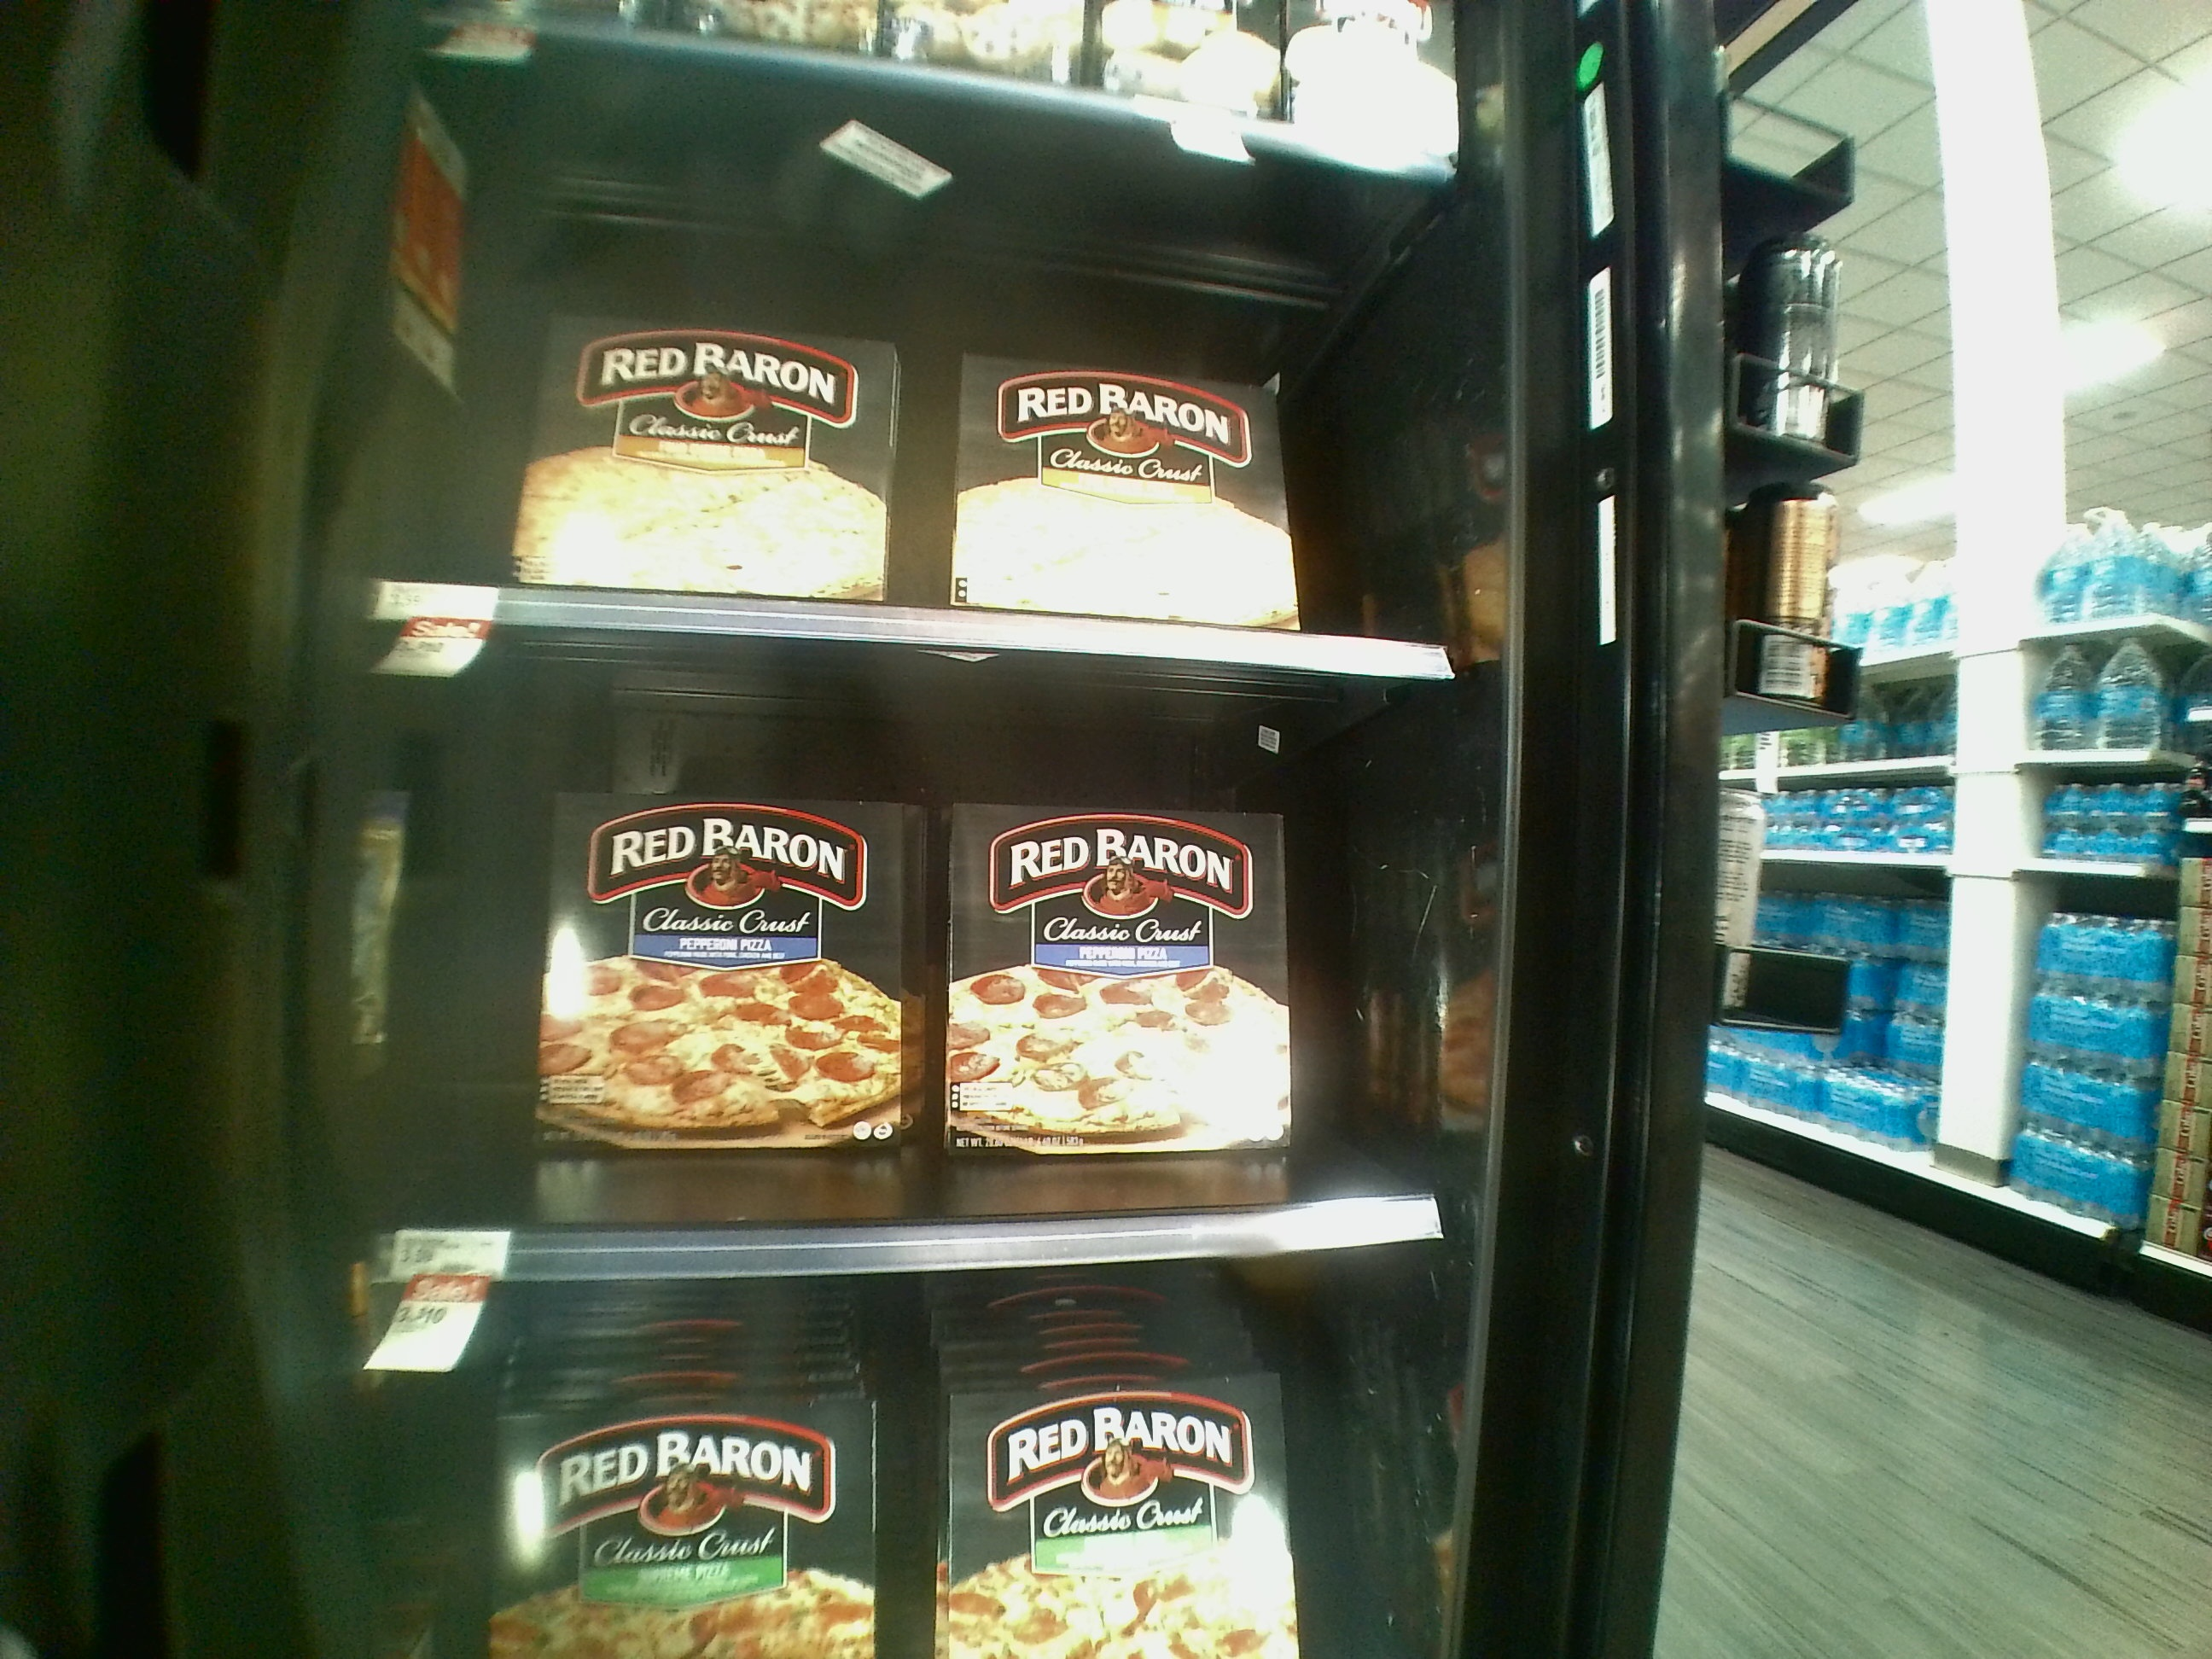shelf: (397, 645, 1470, 1277), (392, 117, 1498, 667)
